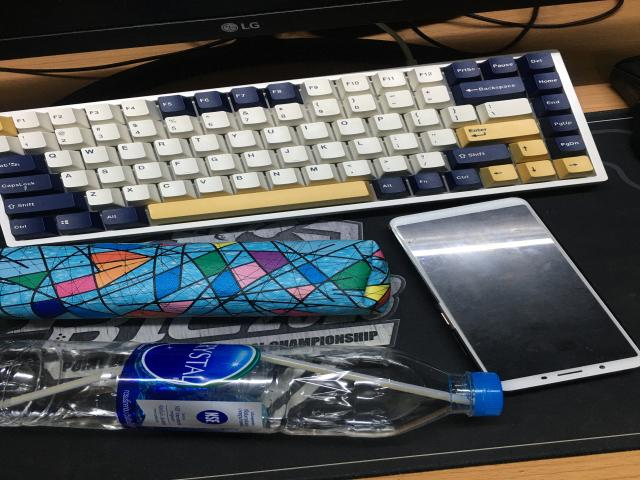Mobile phone: (390, 198, 638, 391)
Mouse: (610, 55, 640, 156)
bottle: (0, 340, 502, 437)
